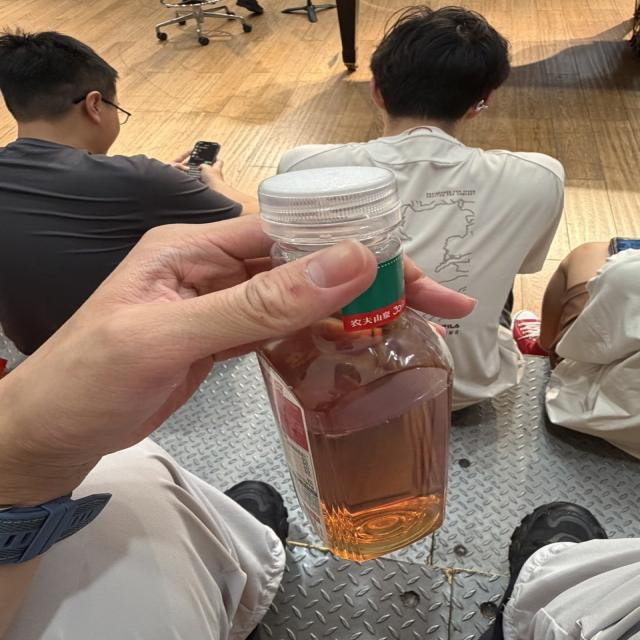high: (258, 168, 452, 560)
